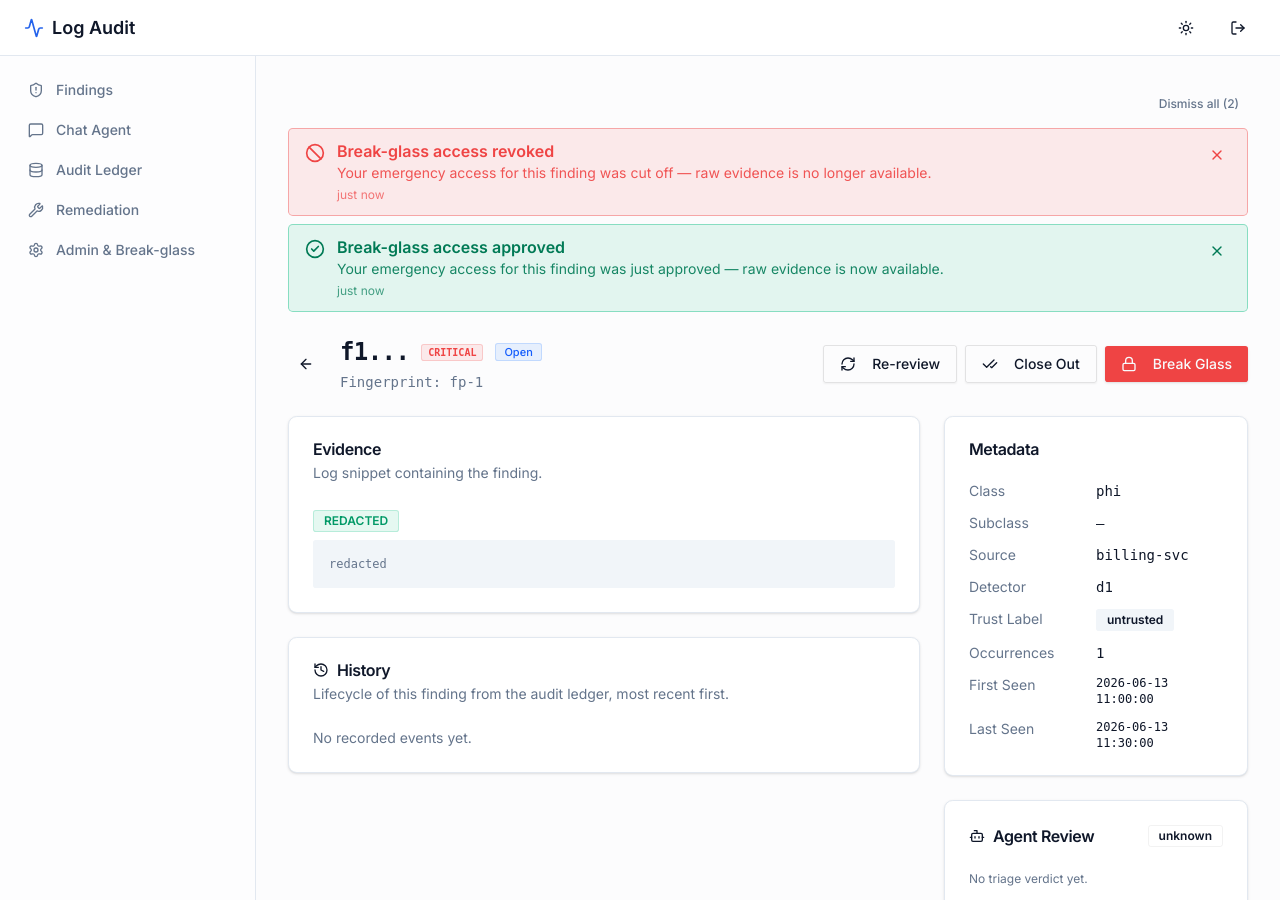
Test: FindingDetail persistent access-change banner › dismisses one stacked entry individually without affecting the others
expect the heading "Break-glass access approved" is shown: met, box [337,237,565,257]
expect the heading "Break-glass access revoked" is shown: met, box [337,141,554,161]
Click the button named "dismiss break-glass access notice" in the row of "Break-glass access revoked" at (1217, 155), box [1203,141,1231,169]
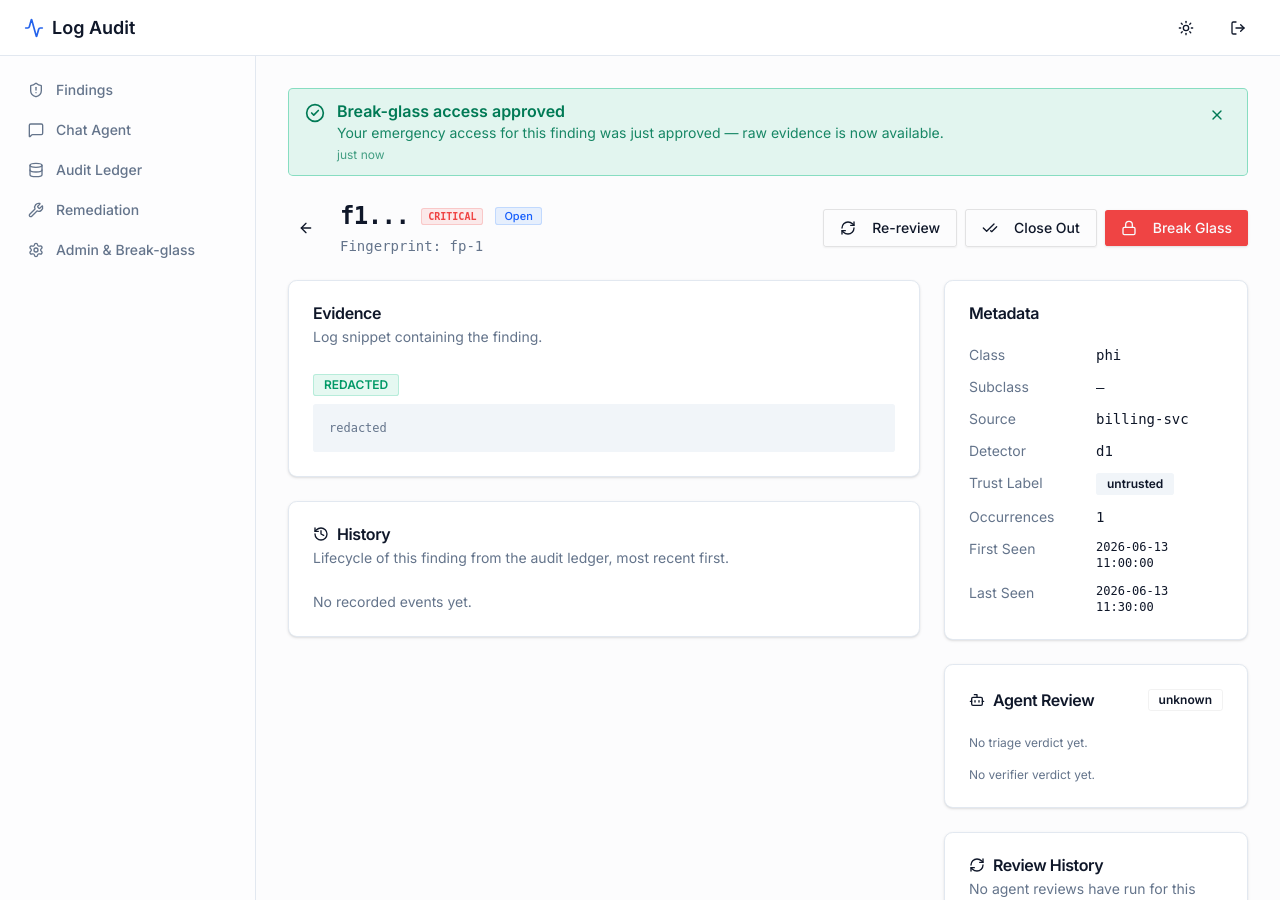
expect the heading "Break-glass access approved" is shown: met, box [337,101,565,121]
expect the heading "Break-glass access revoked" is gone: met
